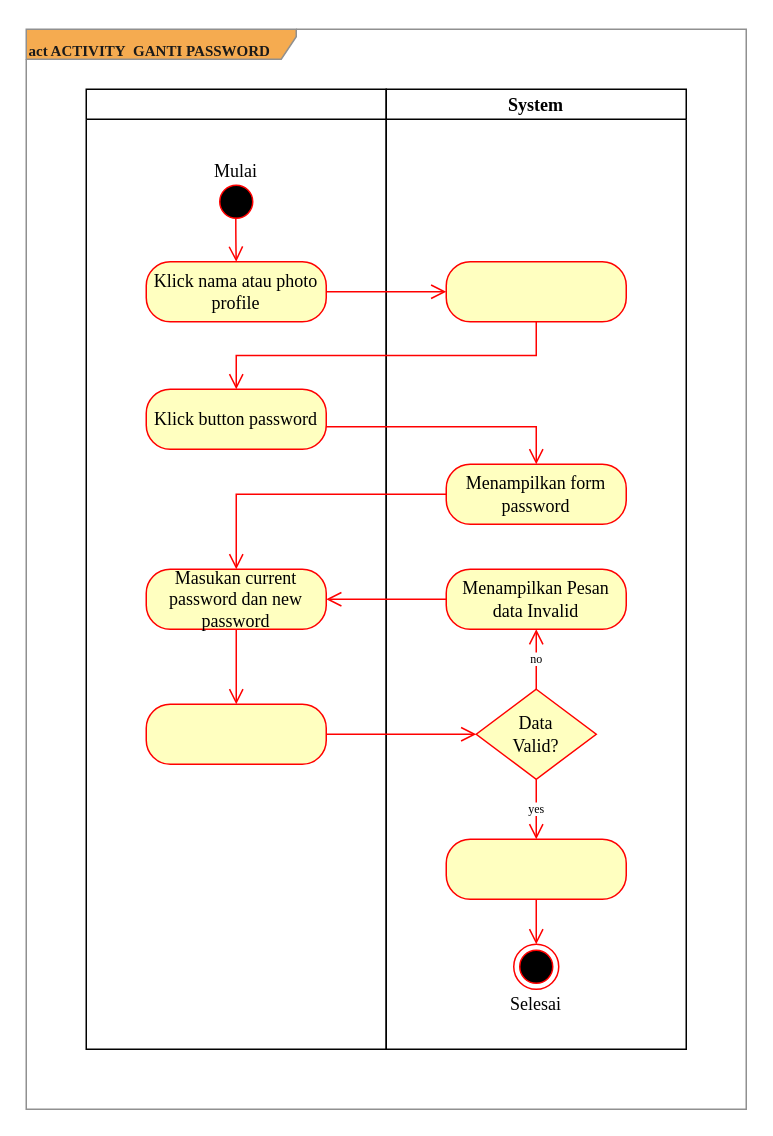
This 773x1136 diagram has some shape labels left out. Here are the shapes that lost their labels. From the top down, the box of each, then its label:
(445, 260, 626, 322): Menampilkan activity Profile
(85, 88, 386, 1049): User
(145, 703, 326, 764): Klick button OK
(445, 838, 626, 899): Update data ke tabel user
